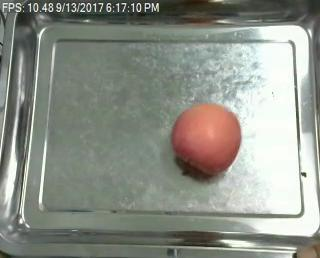apple: (171, 103, 242, 176)
